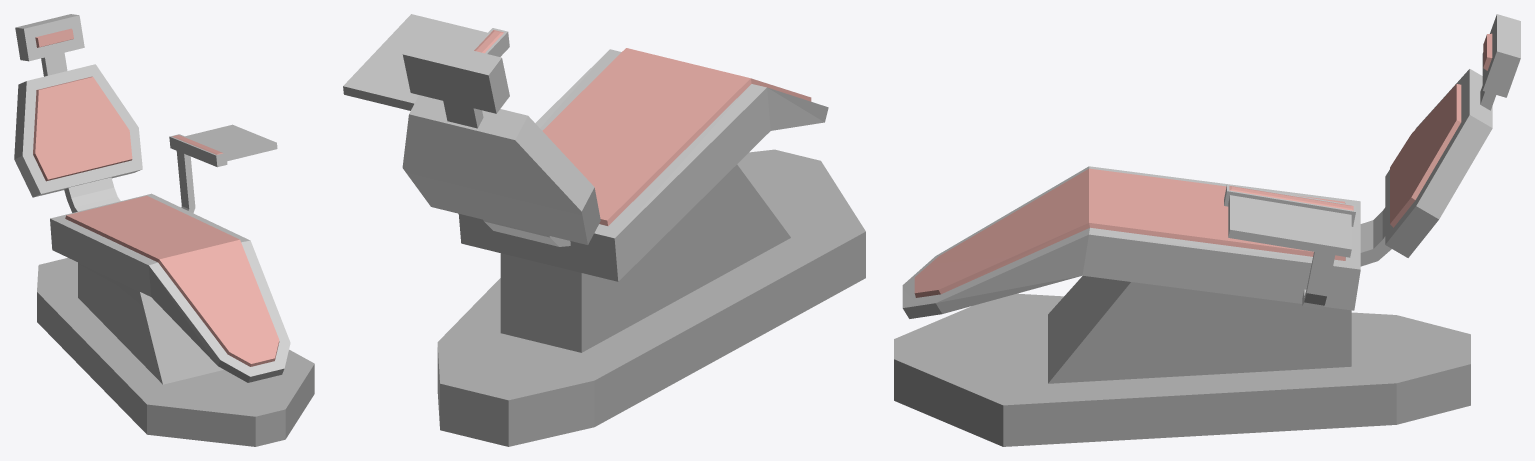
The model's file is Armchair for blood transfusion UV.fbx.
3 renders of one model, left to right at view 1: azimuth 30°, elevation 25°; view 2: azimuth 150°, elevation 25°; view 3: azimuth 270°, elevation 25°, orthographic. The views are drawn at different scales.
Visible parts, largest first — view 1: Cube_6; view 2: Cube_6; view 3: Cube_6.
Part boxes in pixels (left/top/right/bottom): Cube_6: left=14, top=14, right=314, bottom=446; Cube_6: left=343, top=14, right=865, bottom=446; Cube_6: left=894, top=14, right=1520, bottom=446.
Bounding box in the file's own units: 43.59 × 51.14 × 81.05.
